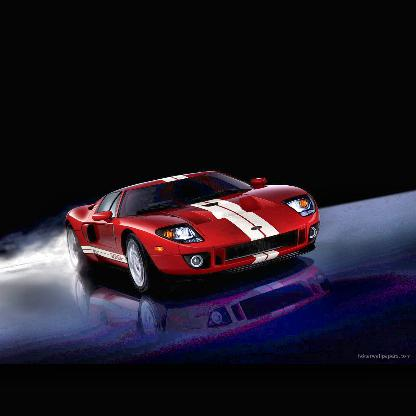Ford GT Coupe 2006: (57, 173, 315, 289)
